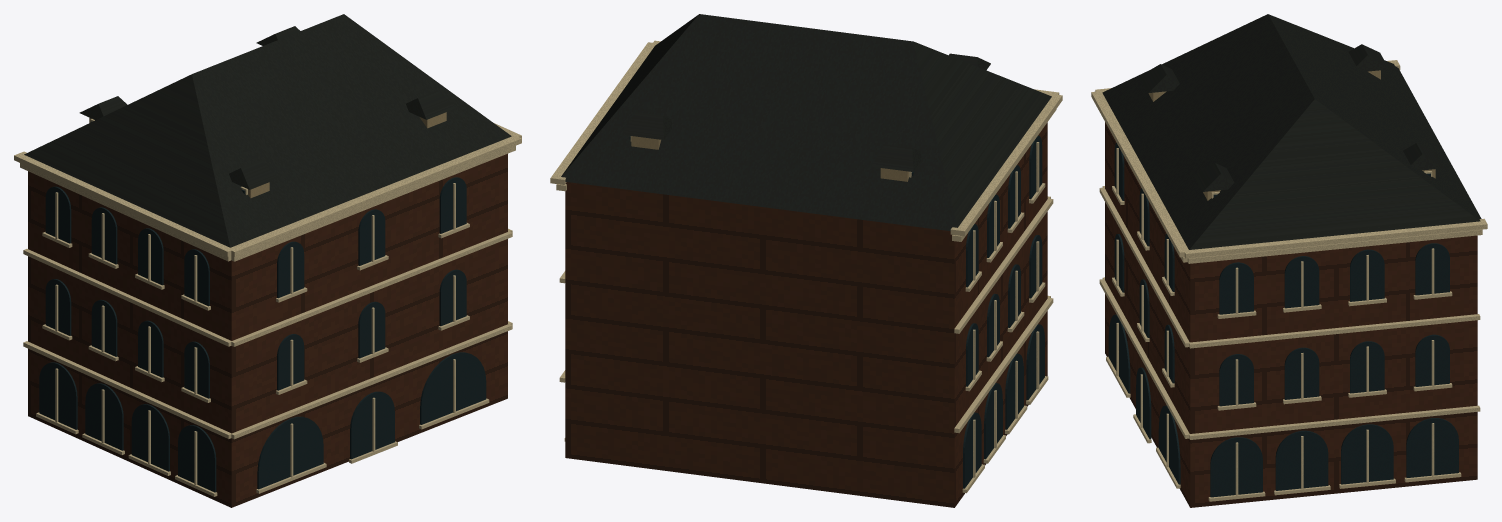
3 views of the same model, side by side, from view 1: azimuth 30°, elevation 25°; view 2: azimuth 150°, elevation 25°; view 3: azimuth 270°, elevation 25° (orthographic). The views are drawn at different scales.
Parts seen in each view (by area): view 1: lucardie-grotemarkt-0, lucardie-grotemarkt-1, lucardie-grotemarkt-2, lucardie-grotemarkt-3; view 2: lucardie-grotemarkt-0, lucardie-grotemarkt-1, lucardie-grotemarkt-3, lucardie-grotemarkt-2, lucardie-grotemarkt-4; view 3: lucardie-grotemarkt-1, lucardie-grotemarkt-0, lucardie-grotemarkt-2, lucardie-grotemarkt-3.
Part boxes in pixels (bbox=[...]): lucardie-grotemarkt-0: bbox=[28, 153, 507, 507]; lucardie-grotemarkt-1: bbox=[24, 14, 511, 247]; lucardie-grotemarkt-2: bbox=[39, 121, 486, 492]; lucardie-grotemarkt-3: bbox=[14, 119, 521, 496]; lucardie-grotemarkt-0: bbox=[565, 122, 1047, 507]; lucardie-grotemarkt-1: bbox=[561, 14, 1051, 231]; lucardie-grotemarkt-3: bbox=[550, 40, 1062, 493]; lucardie-grotemarkt-2: bbox=[629, 135, 1044, 488]; lucardie-grotemarkt-4: bbox=[631, 136, 908, 181]; lucardie-grotemarkt-1: bbox=[1102, 14, 1481, 249]; lucardie-grotemarkt-0: bbox=[1105, 122, 1477, 507]; lucardie-grotemarkt-2: bbox=[1108, 143, 1458, 497]; lucardie-grotemarkt-3: bbox=[1091, 60, 1487, 501].
Size of the model in its own units: 20.23 by 17.5 by 17.46.
5 materials, 5 textured.
